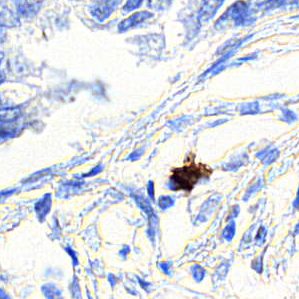Lymphocyte: (168, 157, 213, 194)
